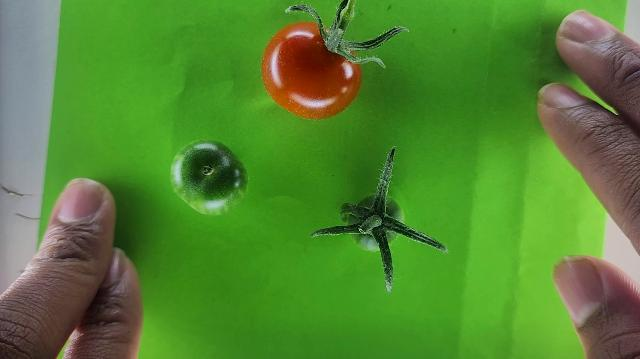Fruit Maturation: (169, 138, 249, 216), (343, 193, 404, 251)
Fully Grown: (263, 22, 362, 119)
